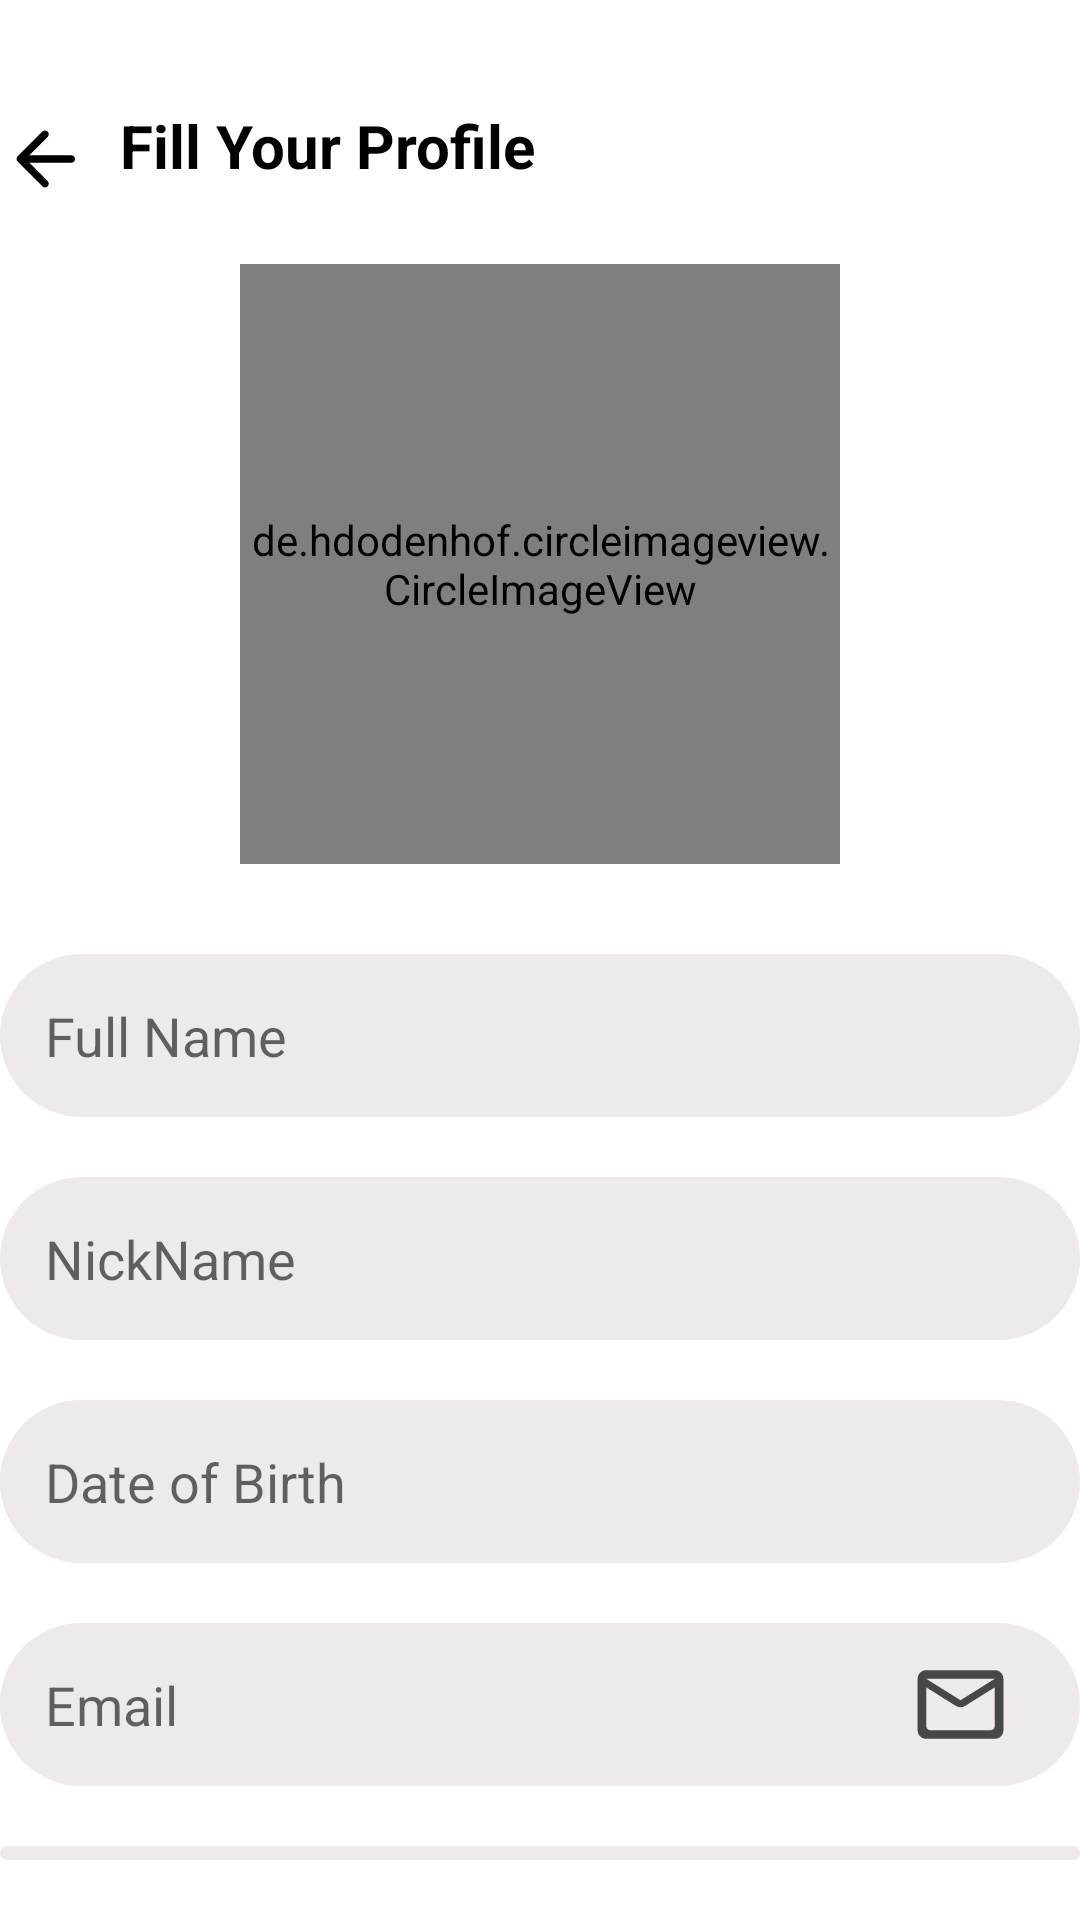

Icon bounding boxes for this 1080px×1920px phone screenshot, format rect(x1, y1, x2, y2):
arrow back: rect(16, 130, 75, 188)
